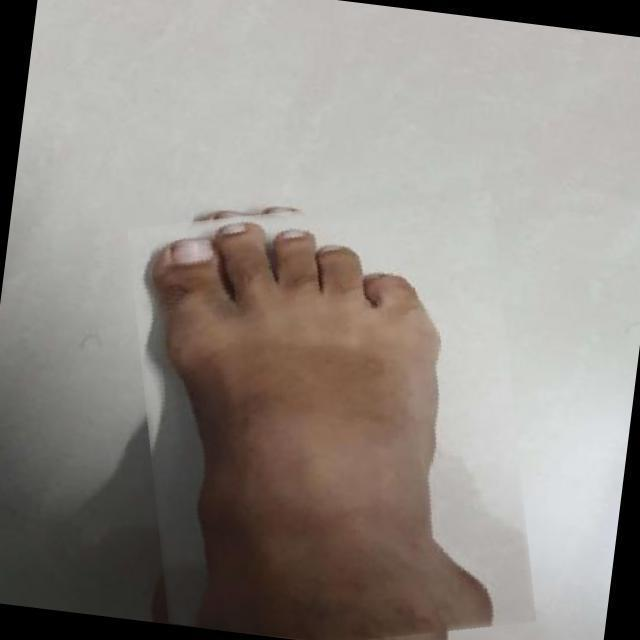No_Shoes: (152, 212, 466, 614)
